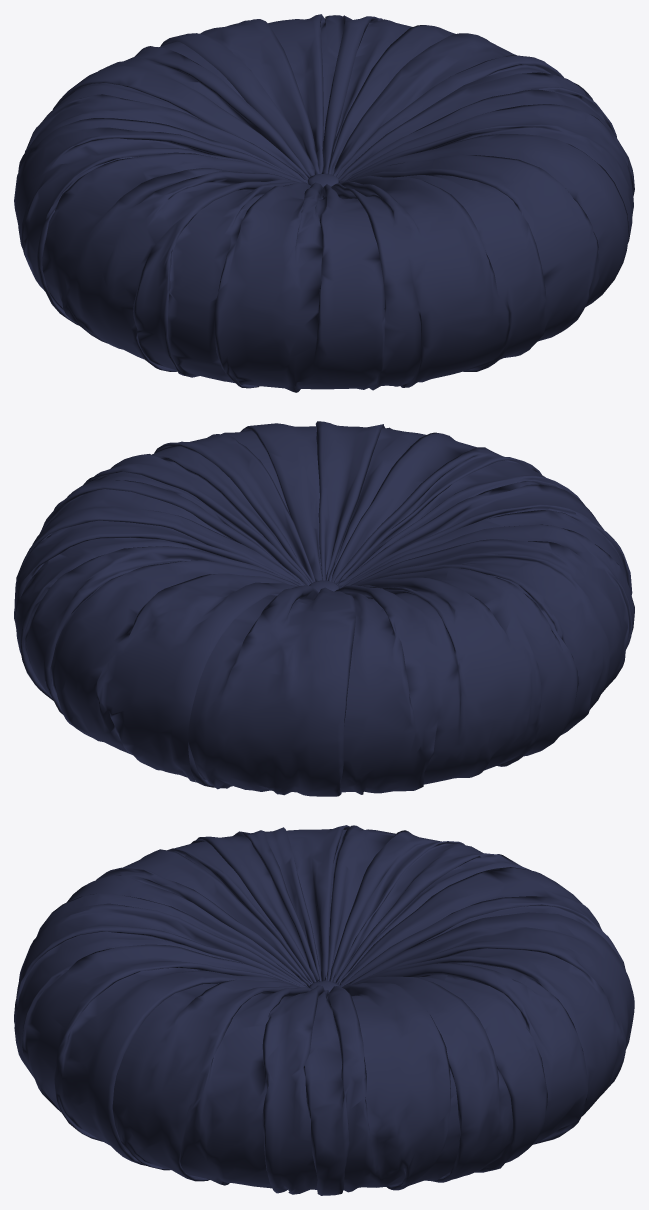
Rendered from silk-pouf.glb.
3 renders of one model, top to bottom at view 1: azimuth 30°, elevation 25°; view 2: azimuth 150°, elevation 25°; view 3: azimuth 270°, elevation 25°, orthographic.
Parts seen in each view (by area): view 1: SpecularSilkPouf; view 2: SpecularSilkPouf; view 3: SpecularSilkPouf.
Part boxes in pixels (x1,y1,x2,y2): SpecularSilkPouf: (14,14,634,392); SpecularSilkPouf: (14,421,634,796); SpecularSilkPouf: (14,825,634,1195).
Bounding box in the file's own units: 0.6099 × 0.1978 × 0.61.
